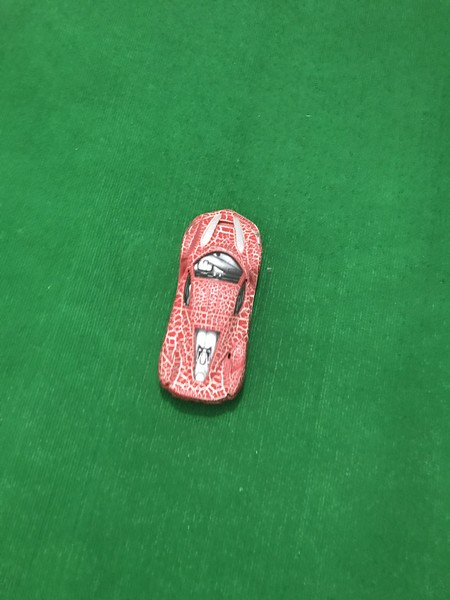RC: (157, 209, 264, 409)
